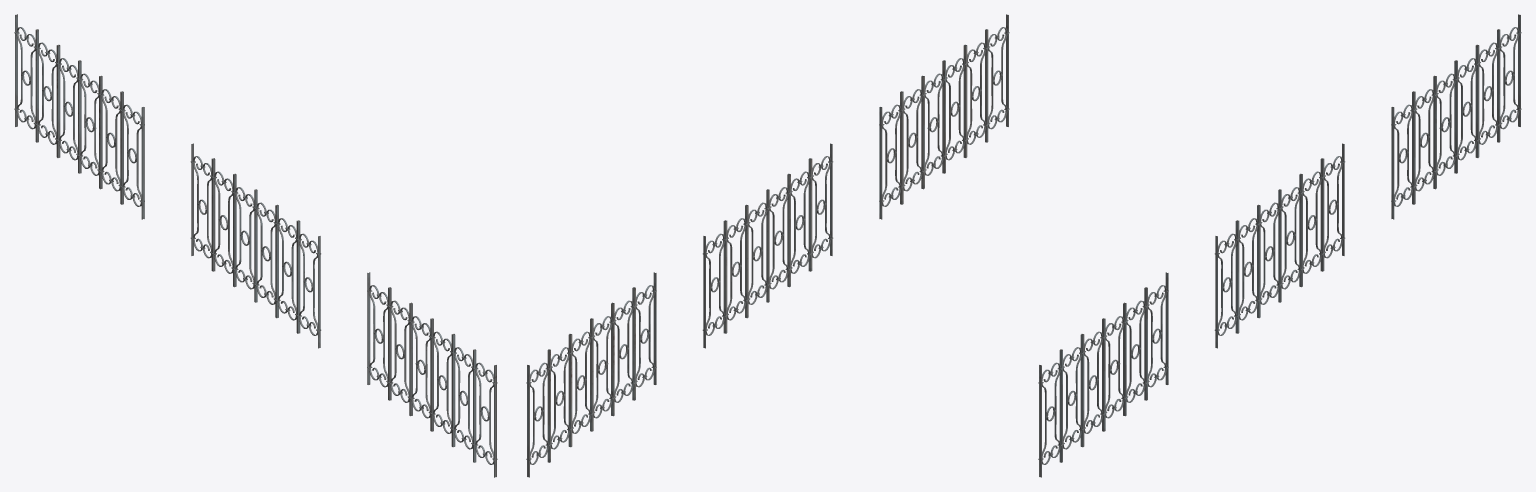
The model's file is Fence_F2 (2).fbx.
3 views of the same model, side by side, from view 1: azimuth 30°, elevation 25°; view 2: azimuth 150°, elevation 25°; view 3: azimuth 330°, elevation 25° (orthographic).
Visible parts, largest first — view 1: Fence_F2 (2); view 2: Fence_F2 (2); view 3: Fence_F2 (2).
Part boxes in pixels (x1,y1,x2,y2): Fence_F2 (2): (14,14,497,477); Fence_F2 (2): (526,14,1009,477); Fence_F2 (2): (1038,14,1521,477).
Size of the model in its own units: 0.0408 by 9.58 by 1.24.
1 material, 1 textured.
